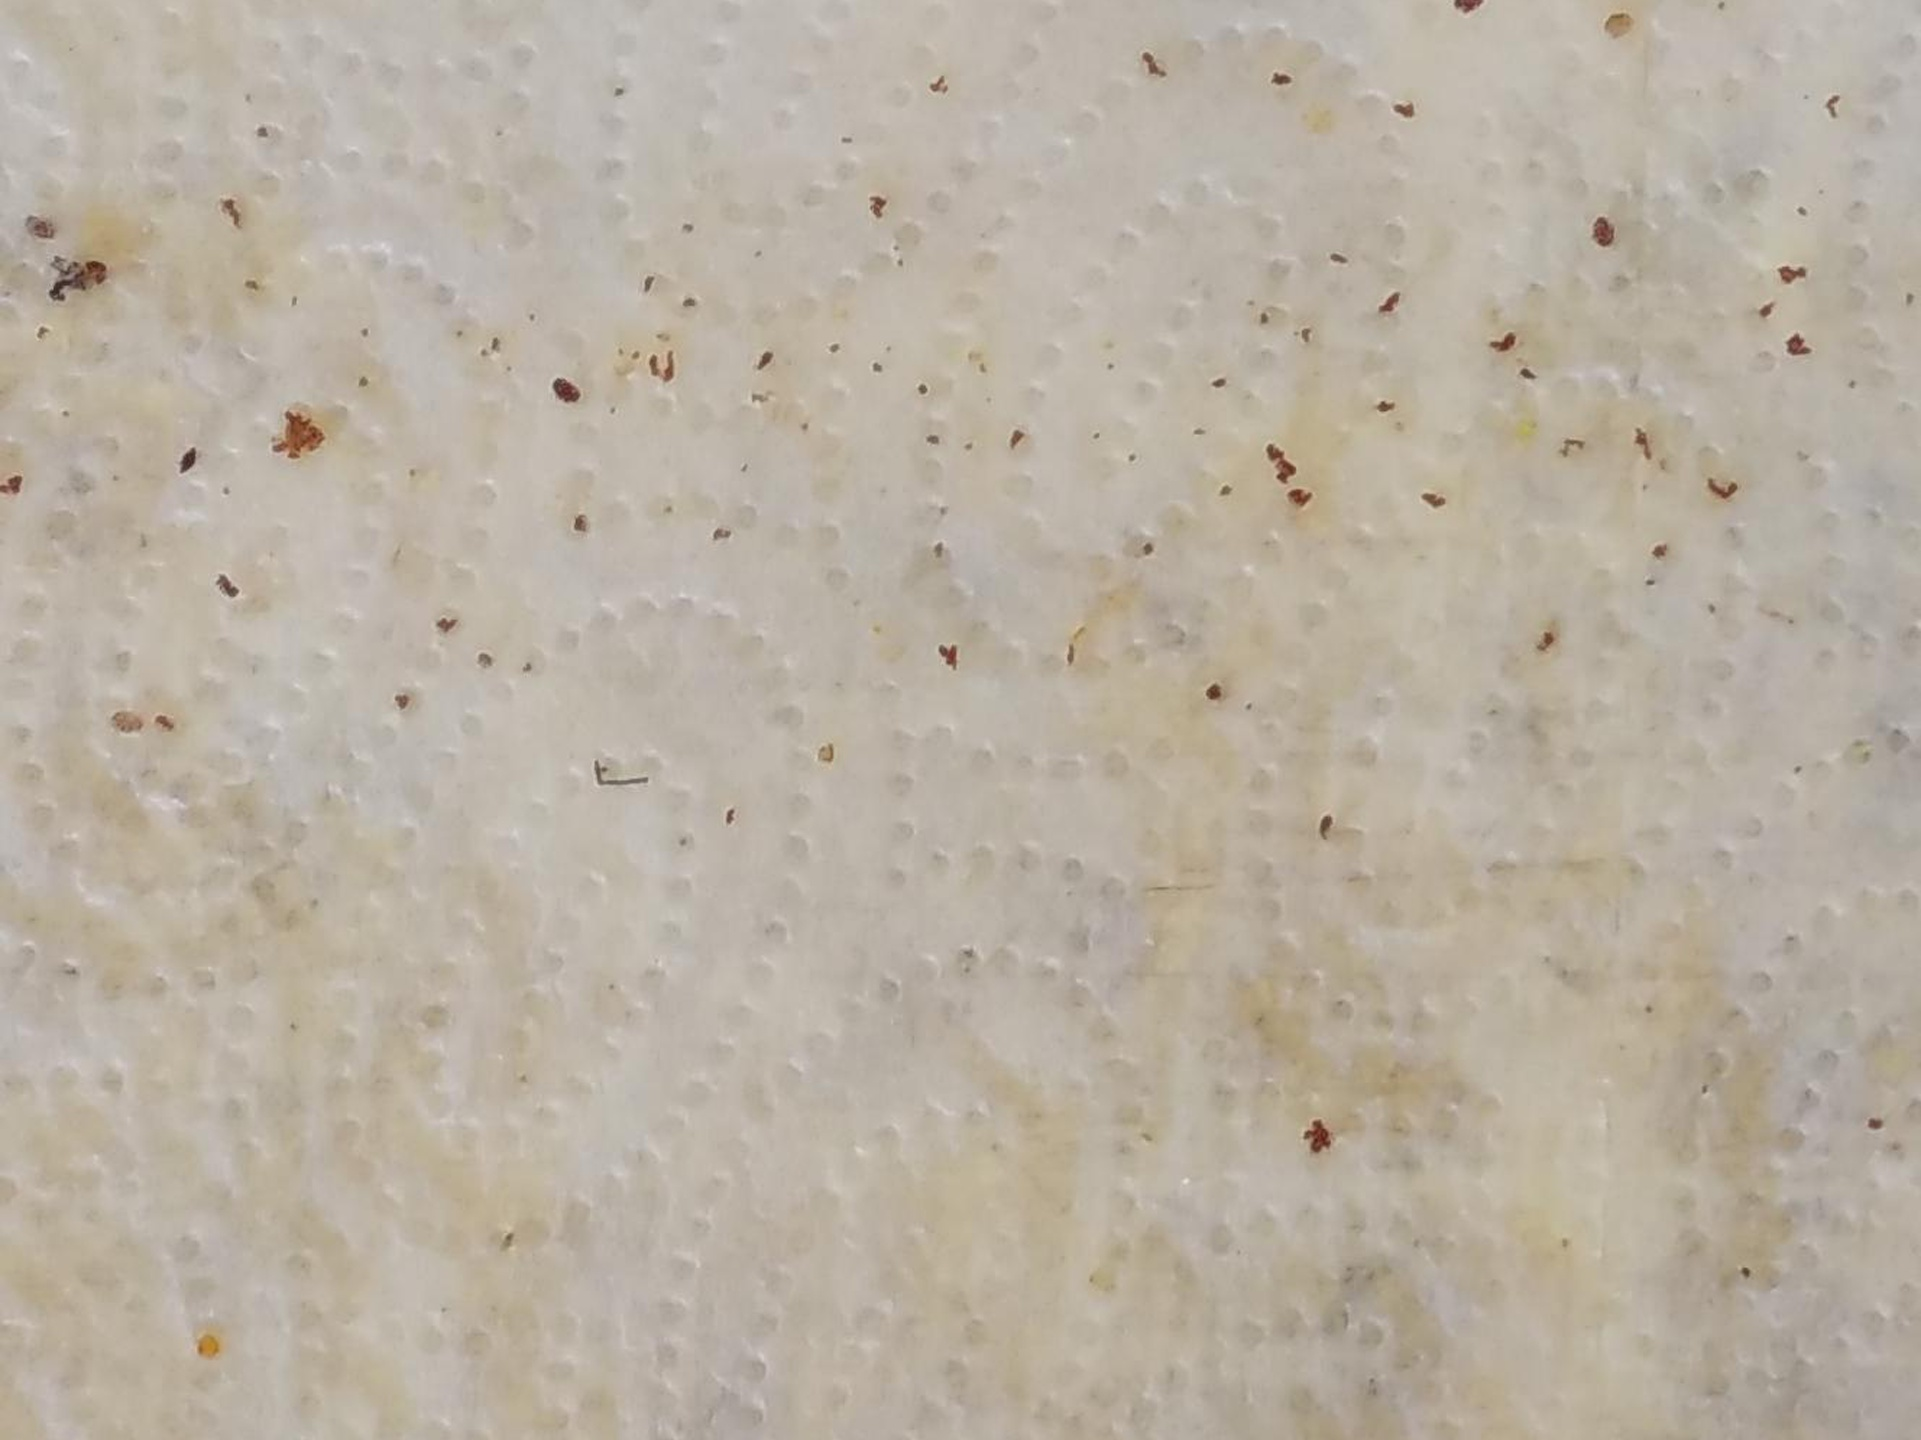Varroa: (163, 437, 209, 481), (20, 204, 64, 248), (548, 371, 579, 402), (1590, 216, 1620, 250)
